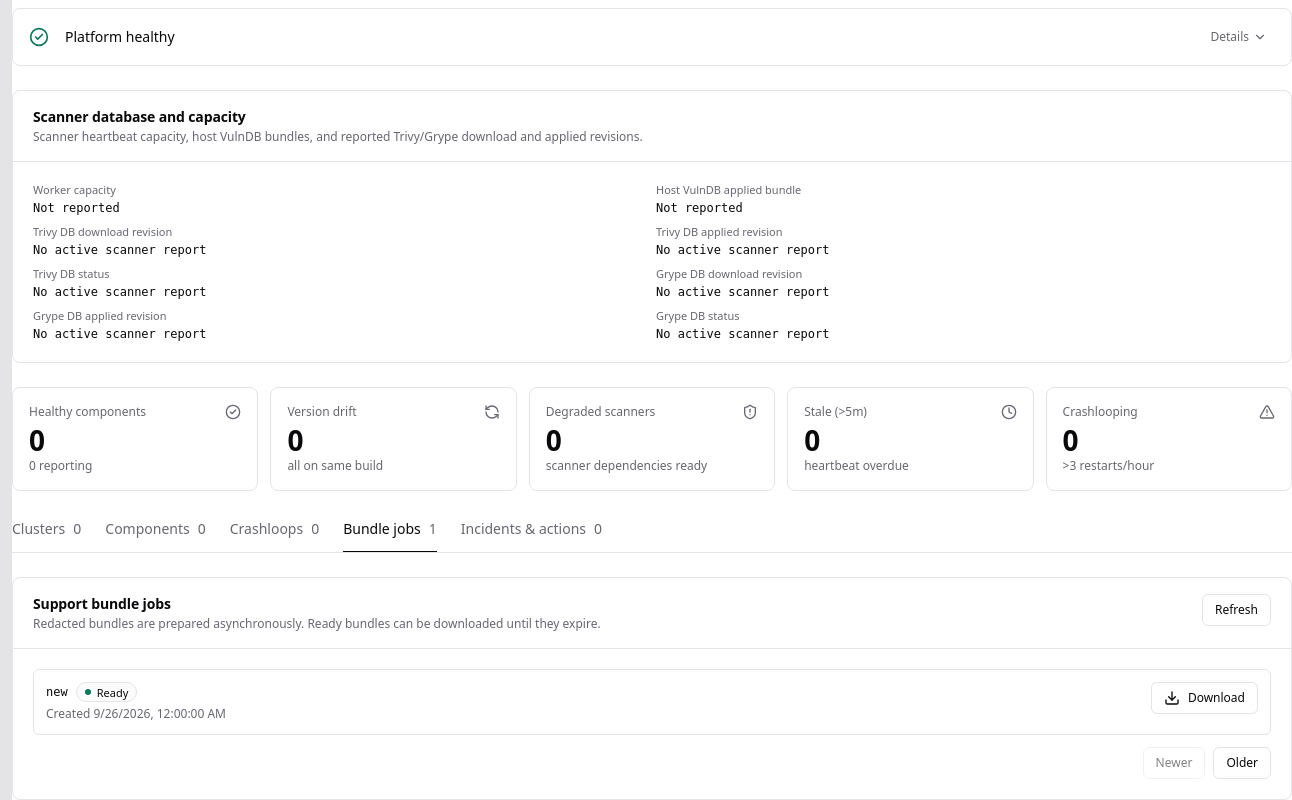
uses the server cursor for older jobs and returns to newest
(page scrolled)
Click the button "Older" at (1242, 763), box [1213,747,1271,779]
(page scrolled)
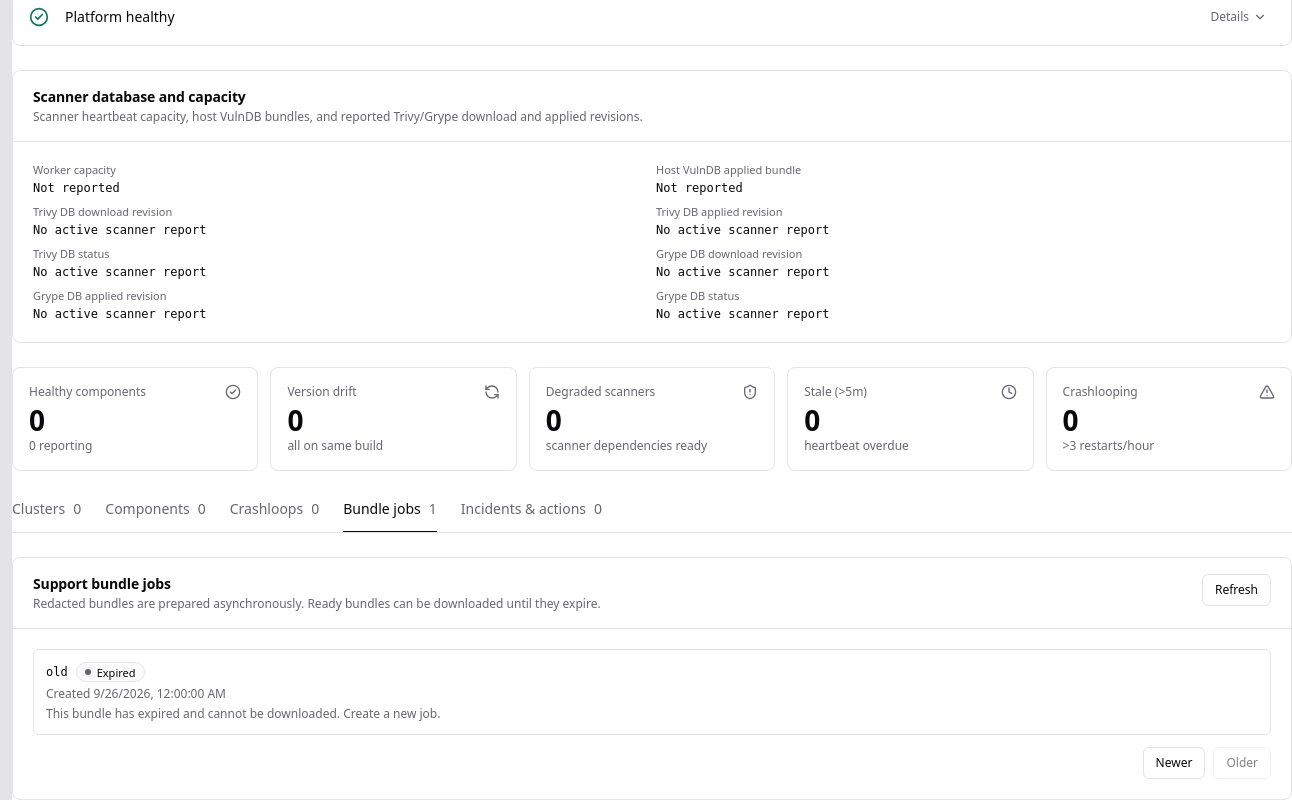
Result: the element with test id "support-bundle-job-old" is shown at [33,649,1271,735]
Click the button "Newer" at (1174, 763), box [1143,747,1205,779]
(page scrolled)
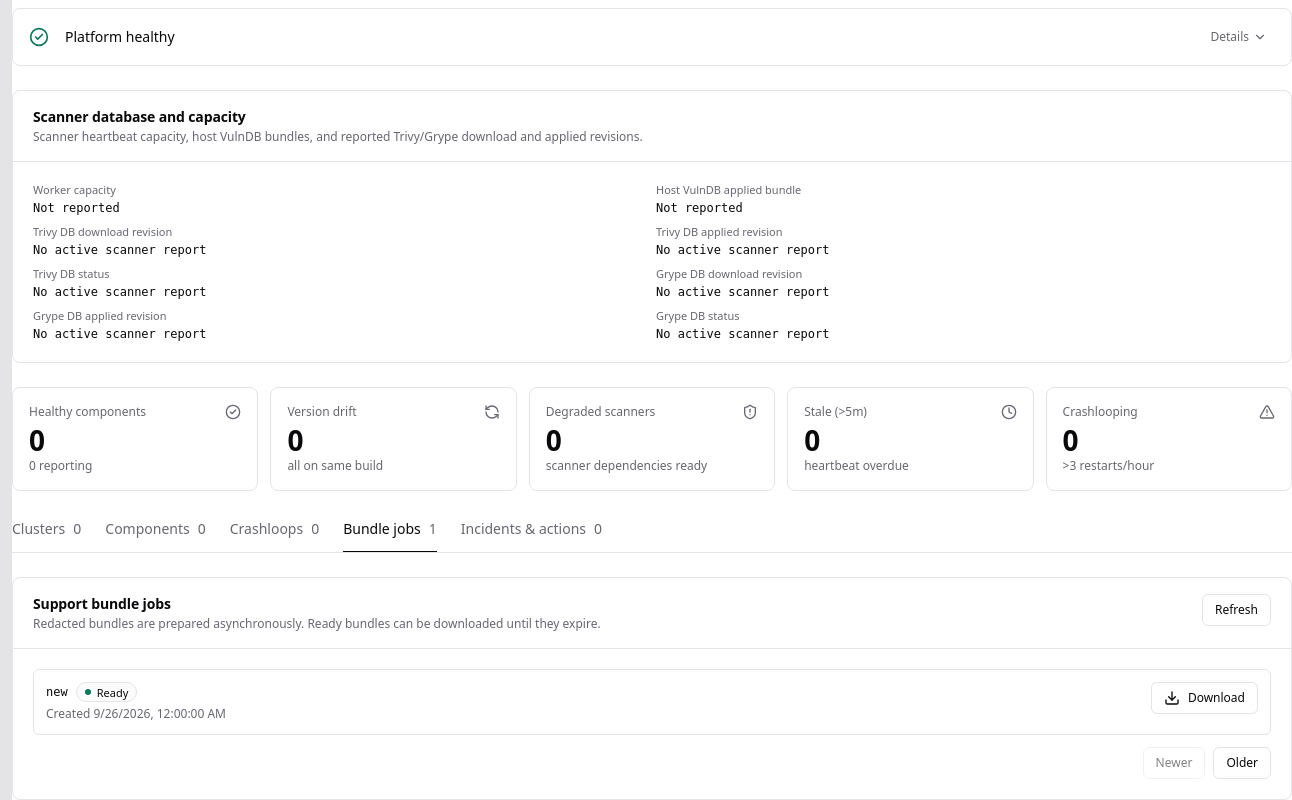
Result: the element with test id "support-bundle-job-new" is shown at [33,669,1271,735]
